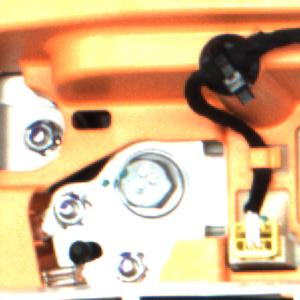nut_b: (117, 148, 188, 217)
screw_s: (22, 117, 67, 164), (52, 184, 86, 221), (115, 249, 150, 284)
